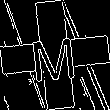M_N: (29, 28, 81, 82)
